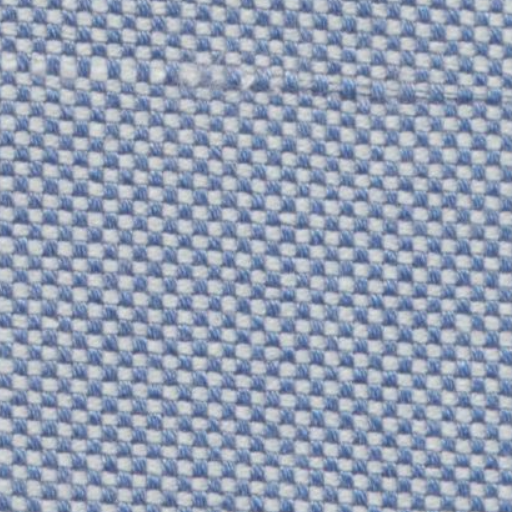DaiSha: (10, 38, 496, 122)
